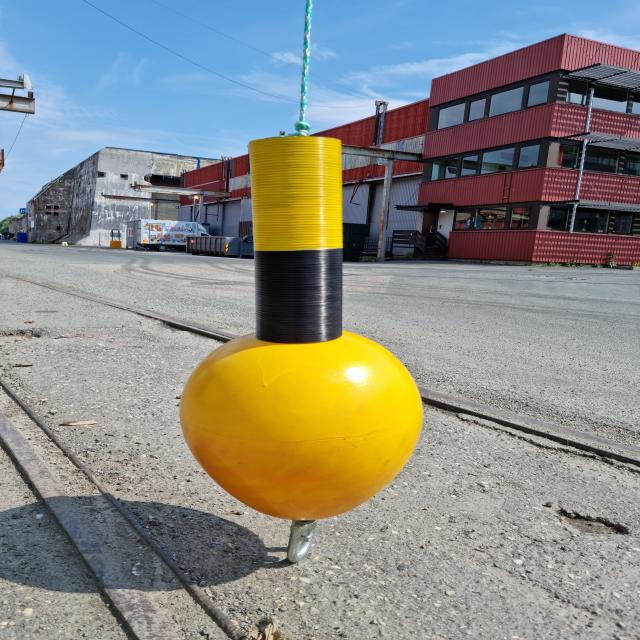west: (183, 136, 426, 520)
